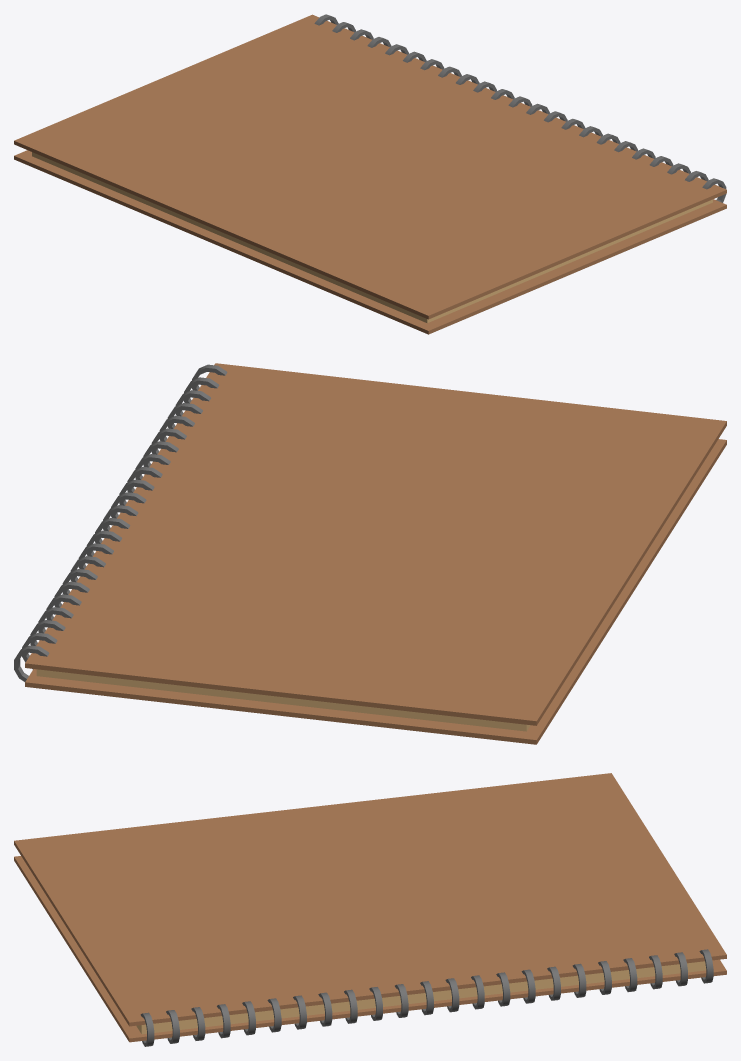
File: Drawertop 1.fbx
3 renders of one model, top to bottom at view 1: azimuth 30°, elevation 25°; view 2: azimuth 150°, elevation 25°; view 3: azimuth 270°, elevation 25°, orthographic. The views are drawn at different scales.
Visible parts, largest first — view 1: Notepad.001; view 2: Notepad.001; view 3: Notepad.001.
Boxes of the visible parts, box(x1,y1,x2,y2) form: Notepad.001: box(14, 14, 726, 334); Notepad.001: box(14, 363, 726, 744); Notepad.001: box(14, 773, 726, 1046).
Size of the model in its own units: 41.23 by 2.27 by 48.95.
